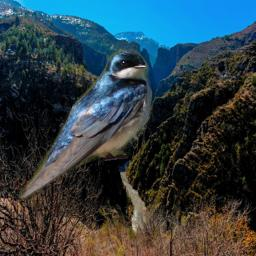Swallow: (19, 46, 153, 204)
